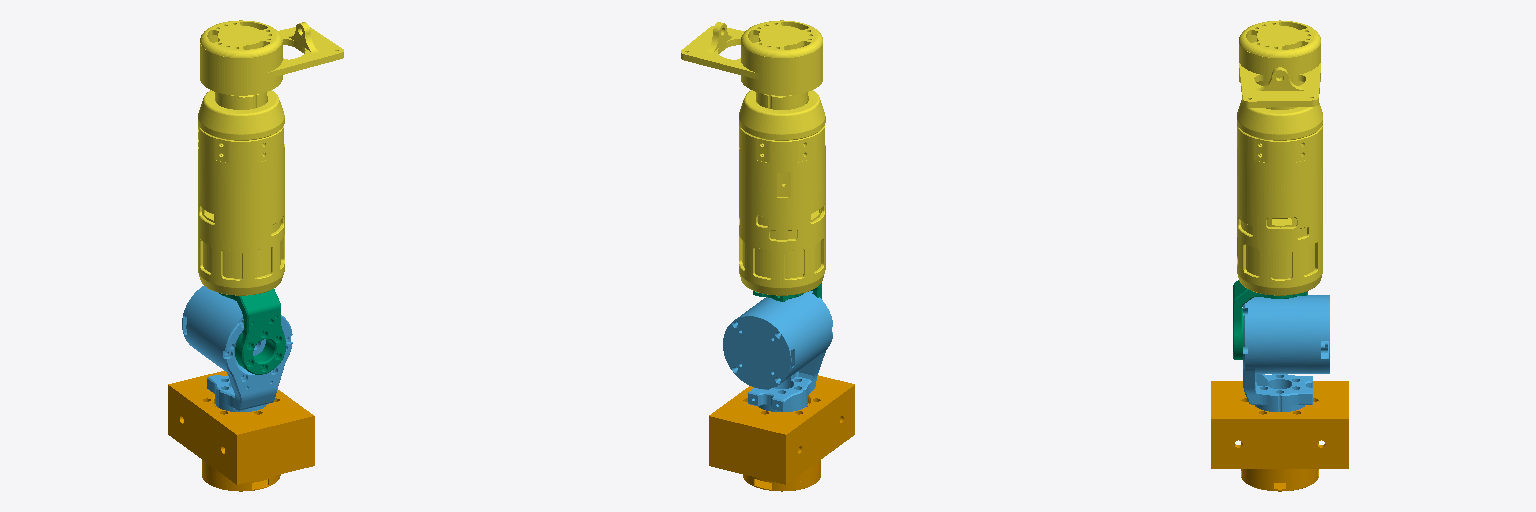
The robot description file, URDF, robot "robot_arm_temp_j1_j2_updated":
<?xml version='1.0' encoding='utf-8'?>
<robot name="robot_arm_temp_j1_j2_updated">
  <link name="base_link">
    <inertial>
      <origin xyz="-0.000066378 -0.000000013 -0.024760805" rpy="0 0 0" />
      <mass value="0.440825314" />
      <inertia ixx="0.000262422" ixy="-0.000000032" ixz="-0.000000869" iyy="0.000220047" iyz="0" izz="0.000272651" />
    </inertial>
    <visual>
      <origin xyz="0.207675861 -0.0605 -0.00175" rpy="0 0 0" />
      <geometry>
        <mesh filename="meshes/base_link__00_body1.stl" scale="0.001 0.001 0.001" />
      </geometry>
    </visual>
    <collision>
      <origin xyz="0.207675861 -0.0605 -0.00175" rpy="0 0 0" />
      <geometry>
        <mesh filename="meshes/base_link__00_body1.stl" scale="0.001 0.001 0.001" />
      </geometry>
    </collision>
    <visual>
      <origin xyz="0.207675861 -0.0605 -0.00175" rpy="0 0 0" />
      <geometry>
        <mesh filename="meshes/base_link__01_body2.stl" scale="0.001 0.001 0.001" />
      </geometry>
    </visual>
    <collision>
      <origin xyz="0.207675861 -0.0605 -0.00175" rpy="0 0 0" />
      <geometry>
        <mesh filename="meshes/base_link__01_body2.stl" scale="0.001 0.001 0.001" />
      </geometry>
    </collision>
    <visual>
      <origin xyz="0.207675861 -0.0605 -0.00175" rpy="0 0 0" />
      <geometry>
        <mesh filename="meshes/base_link__02_body3.stl" scale="0.001 0.001 0.001" />
      </geometry>
    </visual>
    <collision>
      <origin xyz="0.207675861 -0.0605 -0.00175" rpy="0 0 0" />
      <geometry>
        <mesh filename="meshes/base_link__02_body3.stl" scale="0.001 0.001 0.001" />
      </geometry>
    </collision>
  </link>
  <link name="link1">
    <inertial>
      <origin xyz="0.005744197 -0.000000015 0.054184459" rpy="0 0 0" />
      <mass value="0.400393219" />
      <inertia ixx="0.000192025" ixy="0" ixz="-0.000008128" iyy="0.000208122" iyz="0.000000049" izz="0.000176199" />
    </inertial>
    <visual>
      <origin xyz="-0.000004695 -0.183594823 0.086759746" rpy="0 -1.570796327 0" />
      <geometry>
        <mesh filename="meshes/link1__00_body1.stl" scale="0.001 0.001 0.001" />
      </geometry>
    </visual>
    <collision>
      <origin xyz="-0.000004695 -0.183594823 0.086759746" rpy="0 -1.570796327 0" />
      <geometry>
        <mesh filename="meshes/link1__00_body1.stl" scale="0.001 0.001 0.001" />
      </geometry>
    </collision>
    <visual>
      <origin xyz="-0.000004695 -0.183594823 0.086759746" rpy="0 -1.570796327 0" />
      <geometry>
        <mesh filename="meshes/link1__05_body6.stl" scale="0.001 0.001 0.001" />
      </geometry>
    </visual>
    <collision>
      <origin xyz="-0.000004695 -0.183594823 0.086759746" rpy="0 -1.570796327 0" />
      <geometry>
        <mesh filename="meshes/link1__05_body6.stl" scale="0.001 0.001 0.001" />
      </geometry>
    </collision>
    <visual>
      <origin xyz="-0.000004695 -0.183594823 0.086759746" rpy="0 -1.570796327 0" />
      <geometry>
        <mesh filename="meshes/link1__06_body7.stl" scale="0.001 0.001 0.001" />
      </geometry>
    </visual>
    <collision>
      <origin xyz="-0.000004695 -0.183594823 0.086759746" rpy="0 -1.570796327 0" />
      <geometry>
        <mesh filename="meshes/link1__06_body7.stl" scale="0.001 0.001 0.001" />
      </geometry>
    </collision>
  </link>
  <link name="link2">
    <inertial>
      <origin xyz="0.003773258 0.000017446 0.024109816" rpy="0 0 0" />
      <mass value="0.023525669" />
      <inertia ixx="0.000012513" ixy="0.000000006" ixz="-0.000004831" iyy="0.000015648" iyz="0.000000001" izz="0.00000781" />
    </inertial>
    <visual>
      <origin xyz="0.019995305 0.030759746 0.183594823" rpy="-1.570796327 0 1.570796327" />
      <geometry>
        <mesh filename="meshes/link2__00_body1.stl" scale="0.001 0.001 0.001" />
      </geometry>
    </visual>
    <collision>
      <origin xyz="0.019995305 0.030759746 0.183594823" rpy="-1.570796327 0 1.570796327" />
      <geometry>
        <mesh filename="meshes/link2__00_body1.stl" scale="0.001 0.001 0.001" />
      </geometry>
    </collision>
  </link>
  <link name="link5">
    <inertial>
      <origin xyz="-0.000002534 -0.000848226 0.053409138" rpy="0 0 0" />
      <mass value="0.547938612" />
      <inertia ixx="0.001644622" ixy="-0.00000062" ixz="0.0000021" iyy="0.001623698" iyz="0.000053902" izz="0.000285062" />
    </inertial>
    <visual>
      <origin xyz="0 0 0" rpy="1.570796327 0 3.141592654" />
      <geometry>
        <mesh filename="meshes/link5__00_body1.stl" scale="0.001 0.001 0.001" />
      </geometry>
    </visual>
    <collision>
      <origin xyz="0 0 0" rpy="1.570796327 0 3.141592654" />
      <geometry>
        <mesh filename="meshes/link5__00_body1.stl" scale="0.001 0.001 0.001" />
      </geometry>
    </collision>
    <visual>
      <origin xyz="0 0 0" rpy="1.570796327 0 3.141592654" />
      <geometry>
        <mesh filename="meshes/link5__01_body2.stl" scale="0.001 0.001 0.001" />
      </geometry>
    </visual>
    <collision>
      <origin xyz="0 0 0" rpy="1.570796327 0 3.141592654" />
      <geometry>
        <mesh filename="meshes/link5__01_body2.stl" scale="0.001 0.001 0.001" />
      </geometry>
    </collision>
    <visual>
      <origin xyz="0 0 0" rpy="1.570796327 0 3.141592654" />
      <geometry>
        <mesh filename="meshes/link5__02_body3.stl" scale="0.001 0.001 0.001" />
      </geometry>
    </visual>
    <collision>
      <origin xyz="0 0 0" rpy="1.570796327 0 3.141592654" />
      <geometry>
        <mesh filename="meshes/link5__02_body3.stl" scale="0.001 0.001 0.001" />
      </geometry>
    </collision>
    <visual>
      <origin xyz="0 0 0" rpy="1.570796327 0 3.141592654" />
      <geometry>
        <mesh filename="meshes/link5__03_body4.stl" scale="0.001 0.001 0.001" />
      </geometry>
    </visual>
    <collision>
      <origin xyz="0 0 0" rpy="1.570796327 0 3.141592654" />
      <geometry>
        <mesh filename="meshes/link5__03_body4.stl" scale="0.001 0.001 0.001" />
      </geometry>
    </collision>
    <visual>
      <origin xyz="0 0 0" rpy="1.570796327 0 3.141592654" />
      <geometry>
        <mesh filename="meshes/link5__04_body1_1.stl" scale="0.001 0.001 0.001" />
      </geometry>
    </visual>
    <collision>
      <origin xyz="0 0 0" rpy="1.570796327 0 3.141592654" />
      <geometry>
        <mesh filename="meshes/link5__04_body1_1.stl" scale="0.001 0.001 0.001" />
      </geometry>
    </collision>
    <visual>
      <origin xyz="0 0 0" rpy="1.570796327 0 3.141592654" />
      <geometry>
        <mesh filename="meshes/link5__05_body6.stl" scale="0.001 0.001 0.001" />
      </geometry>
    </visual>
    <collision>
      <origin xyz="0 0 0" rpy="1.570796327 0 3.141592654" />
      <geometry>
        <mesh filename="meshes/link5__05_body6.stl" scale="0.001 0.001 0.001" />
      </geometry>
    </collision>
  </link>
  <link name="camera_mount" />
  <link name="hand_mount" />
  <joint name="joint1" type="revolute">
    <parent link="base_link" />
    <child link="link1" />
    <origin xyz="0 0 0" rpy="0.000000000000 0.000000000000 1.570796326795" />
    <axis xyz="0 0 -1" />
    <limit lower="-3.106686069" upper="3.106686069" effort="27.0" velocity="3.77" />
  </joint>
  <joint name="joint2" type="revolute">
    <parent link="link1" />
    <child link="link2" />
    <origin xyz="-0.02 0 0.056" rpy="0 0 0" />
    <axis xyz="-1 0 0" />
    <limit lower="-1.745329252" upper="1.745329252" effort="27.0" velocity="3.77" />
  </joint>
  <joint name="joint3" type="fixed">
    <parent link="link2" />
    <child link="link5" />
    <origin xyz="0.02 0 0.05" rpy="0 0 0.042587675661" />
  </joint>
  <joint name="camera_mount_joint" type="fixed">
    <parent link="link5" />
    <child link="camera_mount" />
    <origin xyz="-0.002211756 -0.071690174 0.169716543" rpy="1.570796327 0 -3.141592654" />
  </joint>
  <joint name="hand_mount_joint" type="fixed">
    <parent link="link5" />
    <child link="hand_mount" />
    <origin xyz="0 0 0.18850348" rpy="-1.570796327 0 0" />
  </joint>
</robot>

--- What the picture shows (computed from the rendered views, not written in the file) ---
Views: 3 orthographic renders of the robot side by side, from view 1: azimuth 30°, elevation 25°; view 2: azimuth 150°, elevation 25°; view 3: azimuth 270°, elevation 25°.
Model robot_arm_temp_j1_j2_updated with 6 links and 5 joints (2 revolute, 3 fixed), rooted at base_link, posed every joint at zero.
Links seen in each view (by area): view 1: link5, base_link, link1, link2; view 2: link5, base_link, link1; view 3: link5, base_link, link1, link2.
Link boxes in pixels (bbox=[...]): link5: bbox=[198, 20, 343, 295]; base_link: bbox=[168, 371, 314, 491]; link1: bbox=[182, 286, 292, 411]; link2: bbox=[219, 289, 285, 374]; link5: bbox=[681, 20, 825, 295]; base_link: bbox=[709, 375, 854, 491]; link1: bbox=[723, 291, 832, 411]; link5: bbox=[1237, 20, 1322, 295]; base_link: bbox=[1211, 381, 1348, 491]; link1: bbox=[1243, 295, 1329, 411]; link2: bbox=[1233, 280, 1307, 359].
Size in the robot's own frame: 0.1052 by 0.1 by 0.351 metres.
Meshes: 13 distinct files referenced, 13 mesh visuals loaded (13 binary STL).
